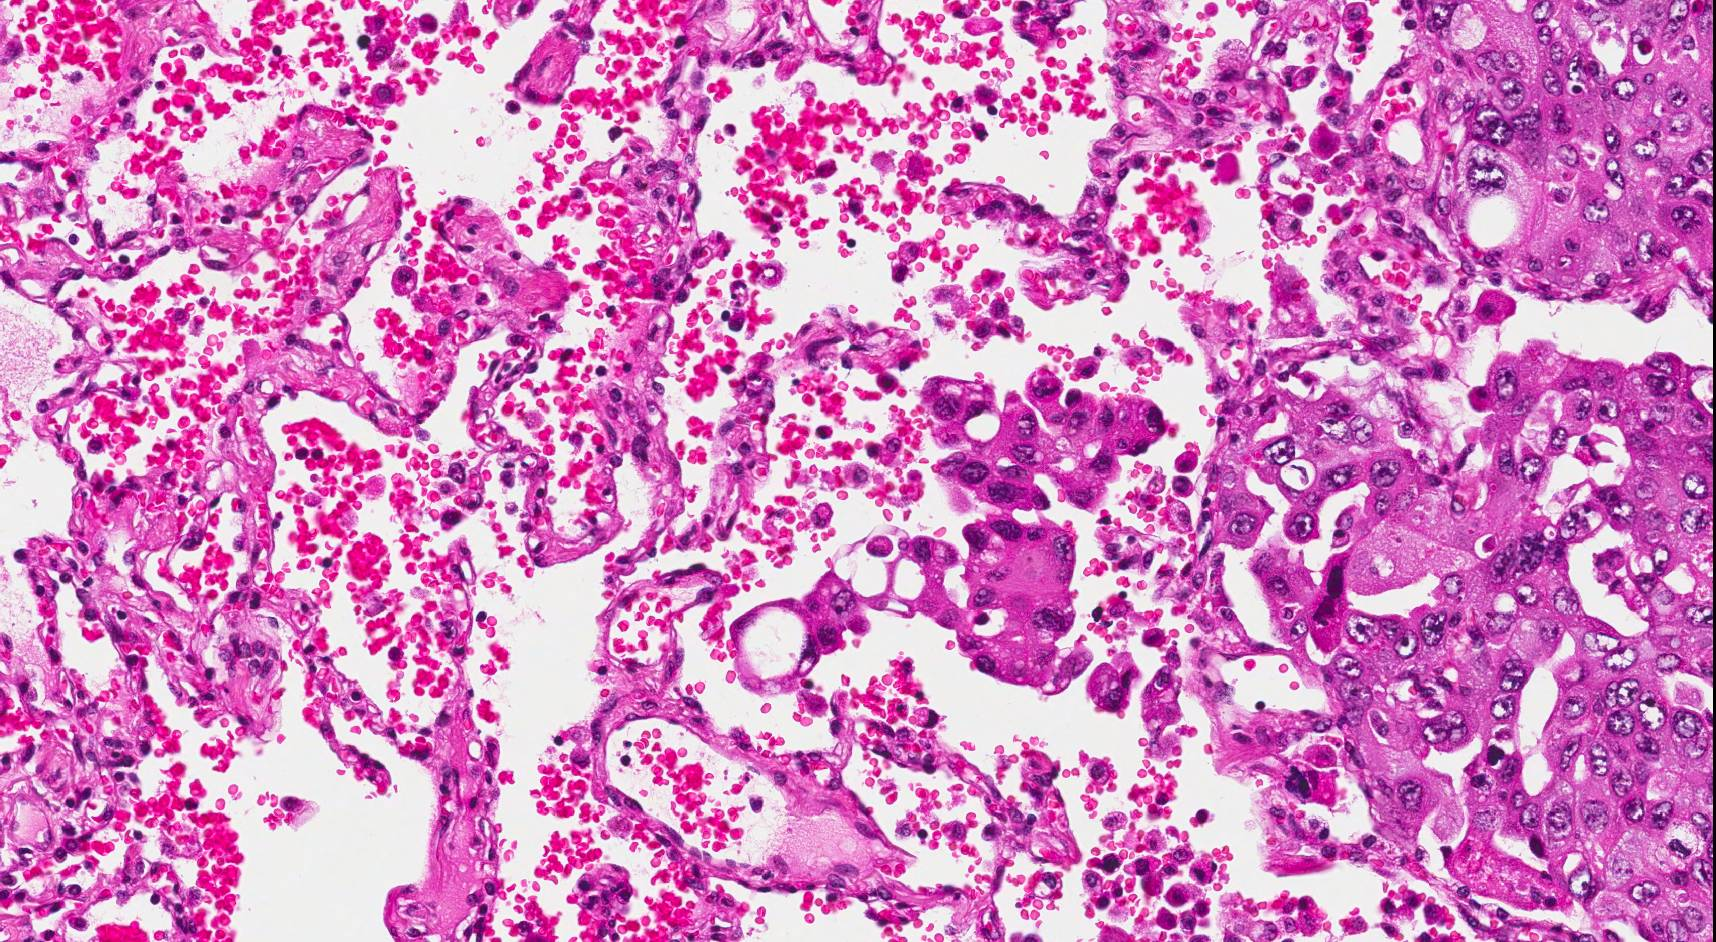stas: (724, 518, 1087, 699), (920, 368, 1166, 511), (1086, 651, 1142, 717)
